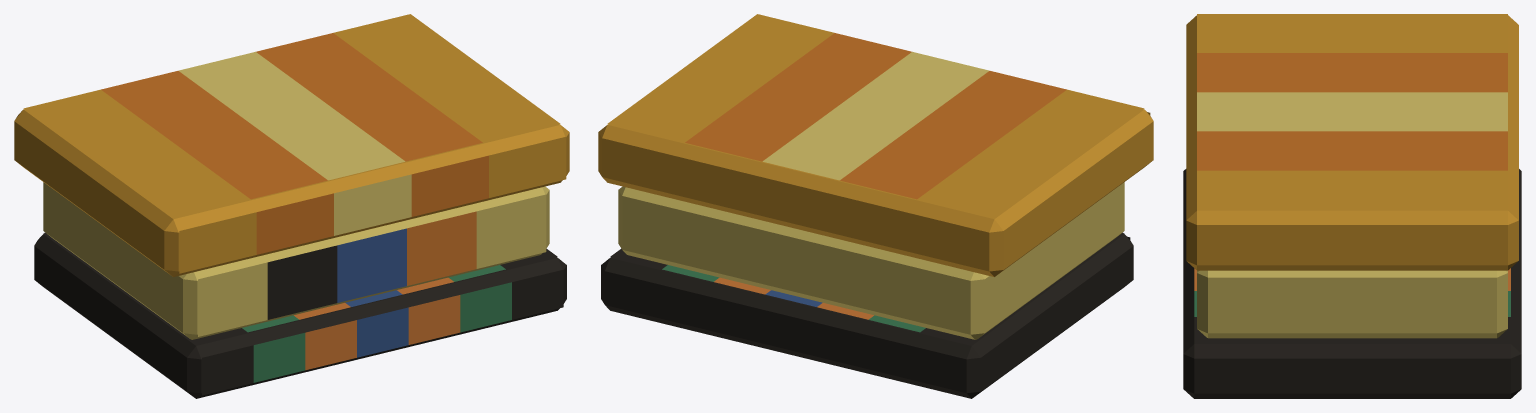
Rendered from kente-throw-roll-06.glb.
3 views of the same model, side by side, from view 1: azimuth 30°, elevation 25°; view 2: azimuth 150°, elevation 25°; view 3: azimuth 270°, elevation 25° (orthographic). The views are drawn at different scales.
Parts seen in each view (by area): view 1: kente_throw_roll_06; view 2: kente_throw_roll_06; view 3: kente_throw_roll_06.
Part boxes in pixels (<box>): kente_throw_roll_06: <box>14,14,569,398</box>; kente_throw_roll_06: <box>598,14,1153,398</box>; kente_throw_roll_06: <box>1183,14,1521,398</box>.
Bounding box in the file's own units: 0.4453 × 0.194 × 0.312.
